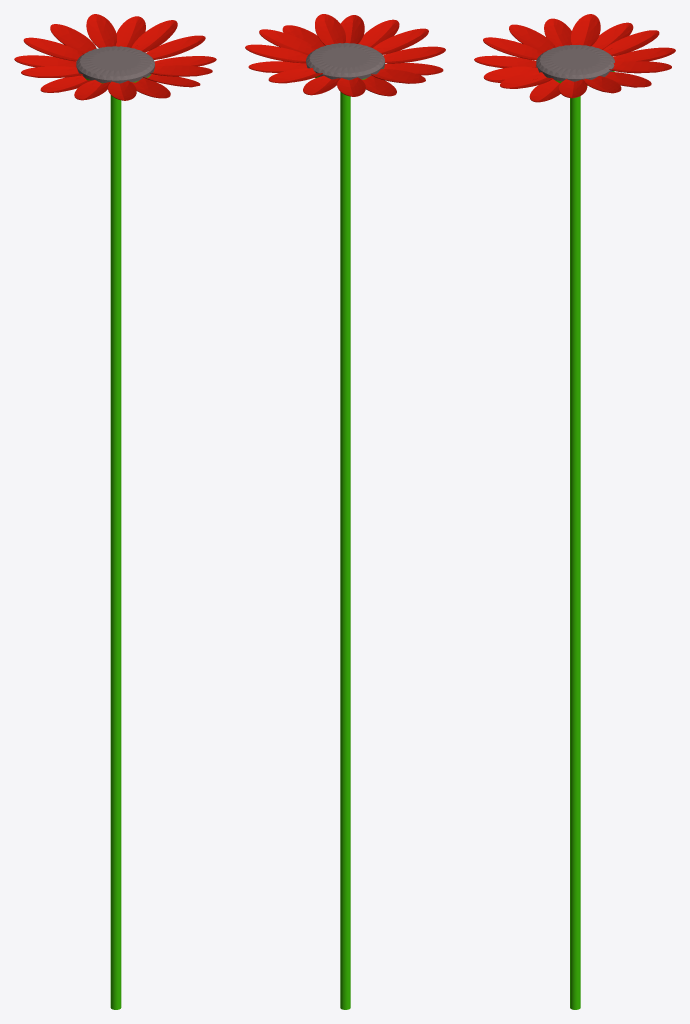
Rendered from gerbera_red.dae.
The picture shows the model from 3 angles, left to right: view 1: azimuth 30°, elevation 25°; view 2: azimuth 150°, elevation 25°; view 3: azimuth 270°, elevation 25°; orthographic projection.
Parts seen in each view (by area): view 1: Cylinder; view 2: Cylinder; view 3: Cylinder.
Boxes of the visible parts, bbox=[...] form: Cylinder: bbox=[14, 14, 216, 1009]; Cylinder: bbox=[245, 14, 445, 1009]; Cylinder: bbox=[474, 14, 675, 1009].
Size of the model in its own units: 1.92 by 1.93 by 10.05.
